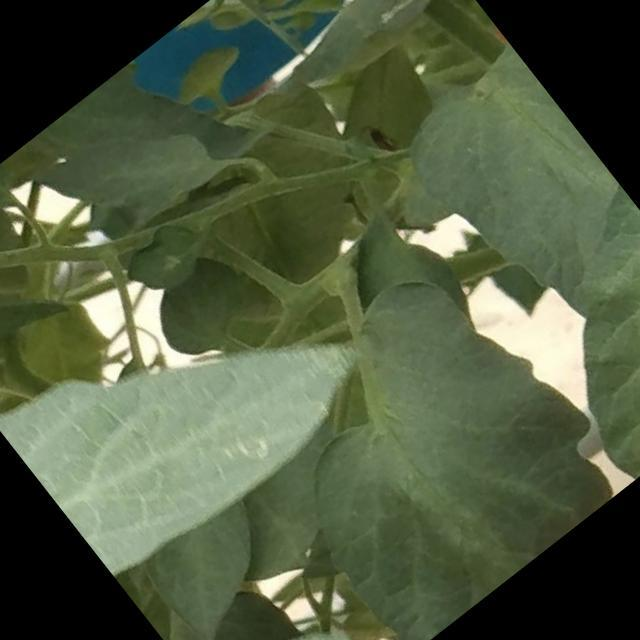Tomato target spot leaf: (188, 543, 428, 640), (268, 0, 457, 110)
